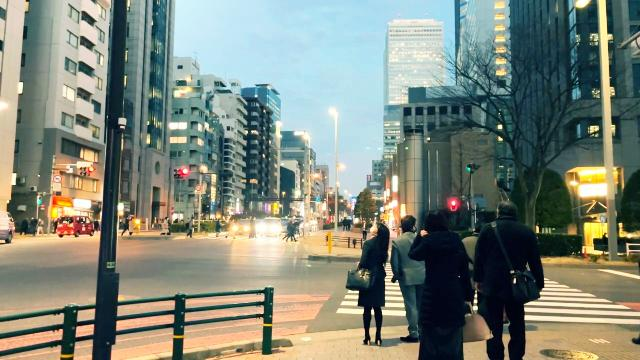berdiri: (472, 197, 548, 358), (408, 202, 474, 360), (388, 204, 430, 342), (352, 212, 388, 352)
